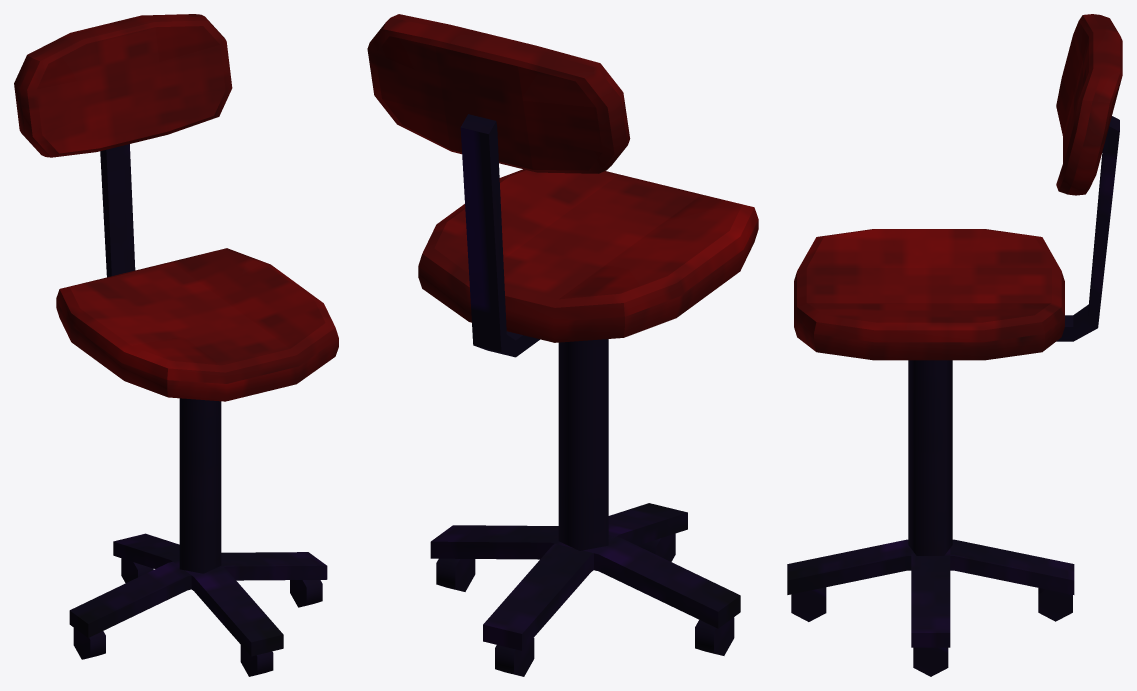
File: SM_Chair.glb
3 views of the same model, side by side, from view 1: azimuth 30°, elevation 25°; view 2: azimuth 150°, elevation 25°; view 3: azimuth 270°, elevation 25° (orthographic). The views are drawn at different scales.
Parts seen in each view (by area): view 1: SM_Chair; view 2: SM_Chair; view 3: SM_Chair.
Boxes of the visible parts, left/top/right/bottom form: SM_Chair: left=14, top=14, right=338, bottom=676; SM_Chair: left=367, top=14, right=758, bottom=676; SM_Chair: left=787, top=14, right=1122, bottom=676.
Bounding box in the file's own units: 0.3553 × 0.7741 × 0.4149.
1 material, 1 textured.
